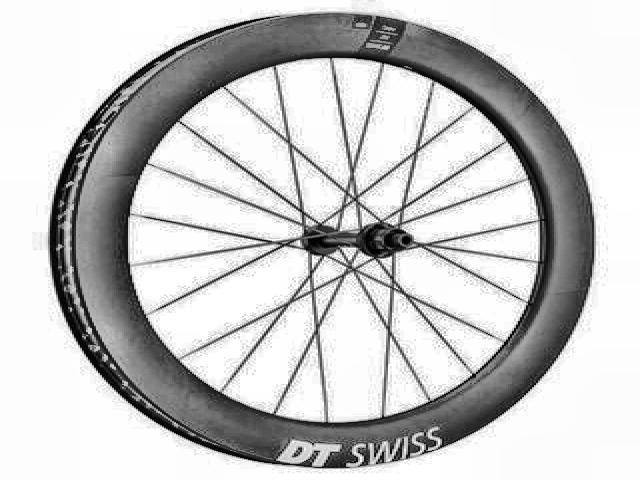wheel: (43, 2, 607, 468)
